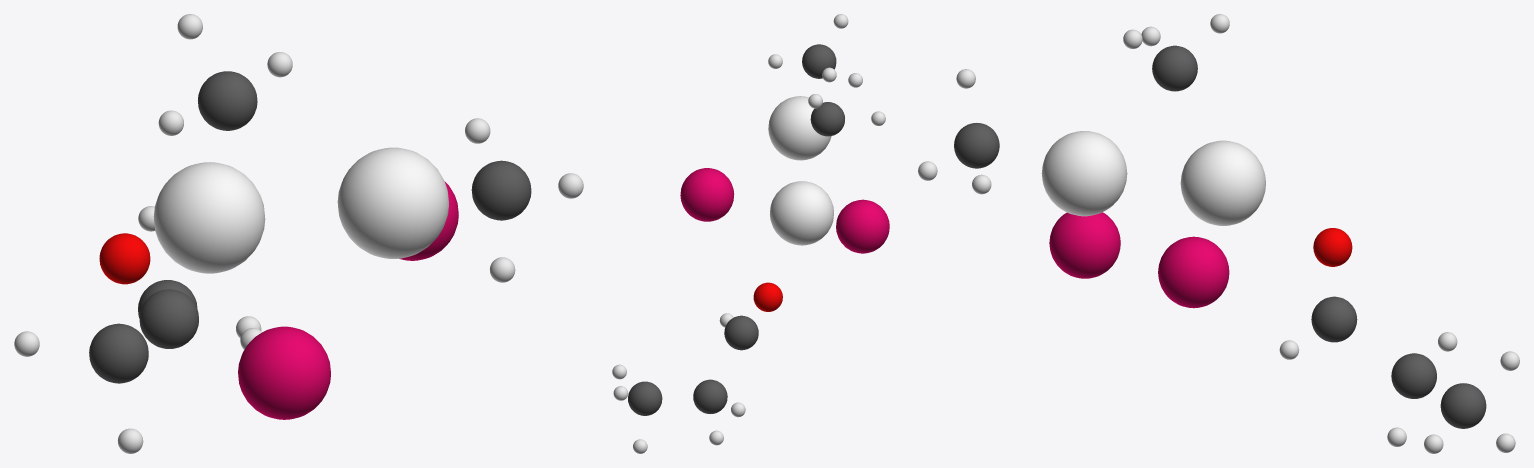
File: propanal_NA_secbutanol.fbx
3 views of the same model, side by side, from view 1: azimuth 30°, elevation 25°; view 2: azimuth 150°, elevation 25°; view 3: azimuth 270°, elevation 25° (orthographic). The views are drawn at different scales.
Visible parts, largest first — view 1: Mg15, Mg21, Br22, C17, C02, C11, C01, O05, Br16, C06; view 2: Mg15, Mg21, Br22, Br16, C01, C02, C06, C11, C17, O05; view 3: Mg21, Mg15, Br16, Br22, C06, C11, C01, C17, C02, O05.
Boxes of the visible parts, x1,y1,x2,y2 form: Mg15: (153, 162, 265, 273); Mg21: (337, 147, 448, 258); Br22: (238, 326, 330, 419); C17: (471, 160, 531, 220); C02: (89, 323, 148, 383); C11: (198, 71, 257, 130); C01: (139, 289, 198, 348); O05: (99, 233, 150, 284); Br16: (399, 181, 458, 260); C06: (138, 280, 197, 317); Mg15: (770, 181, 833, 245); Mg21: (768, 96, 831, 160); Br22: (836, 199, 889, 253); Br16: (680, 168, 734, 221); C01: (724, 315, 758, 350); C02: (693, 379, 727, 413); C06: (628, 381, 662, 415); C11: (810, 102, 844, 136); C17: (802, 44, 836, 78); O05: (753, 282, 782, 311); Mg21: (1041, 131, 1127, 216); Mg15: (1180, 140, 1265, 225); Br16: (1158, 236, 1229, 308); Br22: (1049, 212, 1120, 278); C06: (1440, 383, 1486, 428); C11: (1152, 45, 1197, 91); C01: (1311, 296, 1357, 342); C17: (954, 123, 999, 168); C02: (1391, 353, 1436, 398); O05: (1313, 228, 1352, 266).
Bounding box in the file's own units: 464 × 741 × 985.
